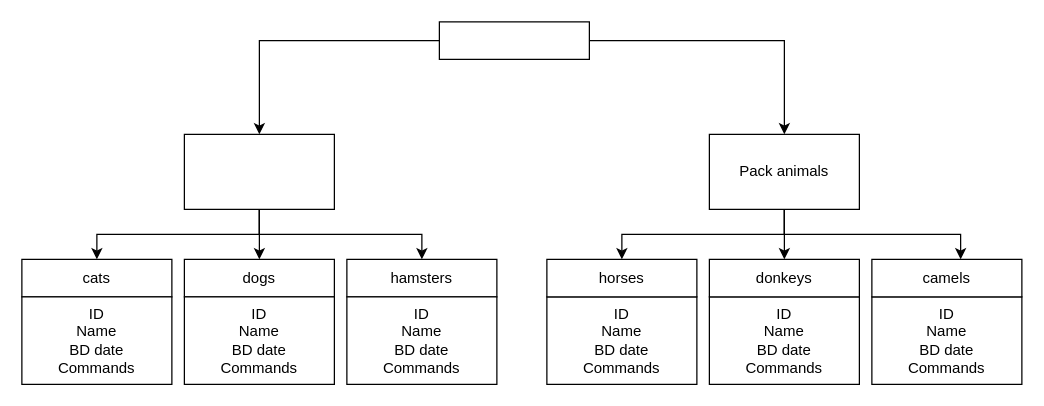
Image size: 1044x406. Some labels were removed from this diagram. Each missing label, with the box of its shape:
Animals: (438, 21, 589, 59)
Pets: (183, 133, 334, 209)
